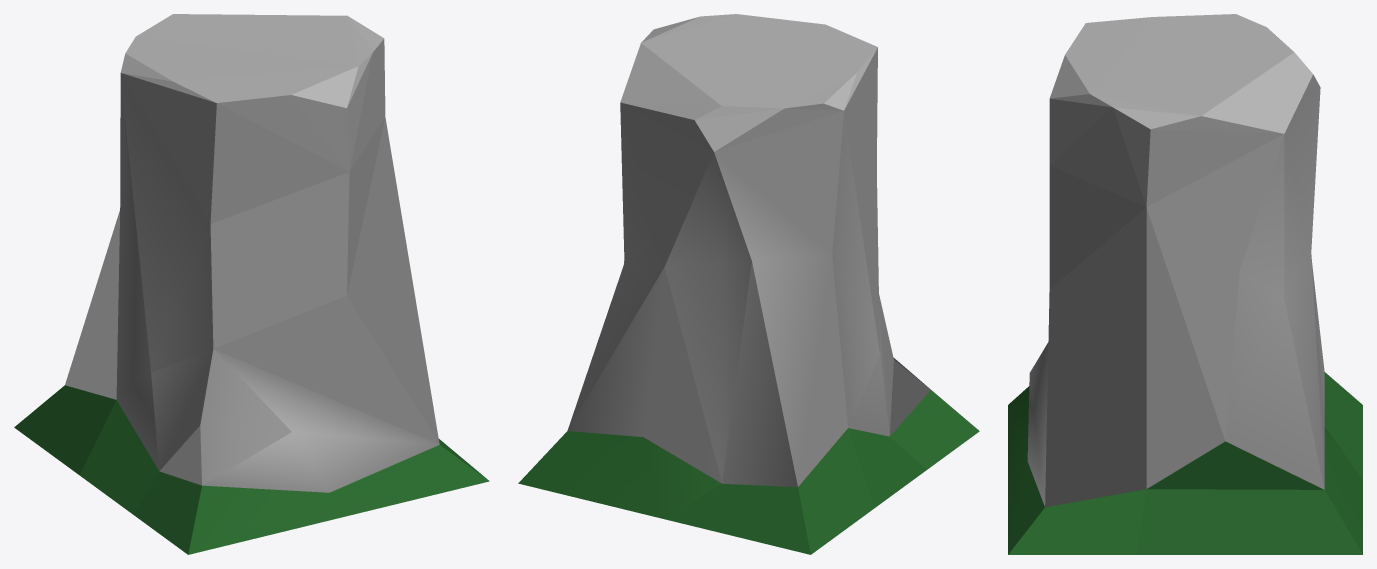
The model's file is SM_Pillar.fbx.
3 renders of one model, left to right at view 1: azimuth 30°, elevation 25°; view 2: azimuth 150°, elevation 25°; view 3: azimuth 270°, elevation 25°, orthographic. The views are drawn at different scales.
Visible parts, largest first — view 1: StonePillar; view 2: StonePillar; view 3: StonePillar.
Part boxes in pixels (<box>): StonePillar: <box>14,14,489,554</box>; StonePillar: <box>518,14,979,554</box>; StonePillar: <box>1008,14,1362,554</box>.
Size of the model in its own units: 1 by 1.29 by 1.
